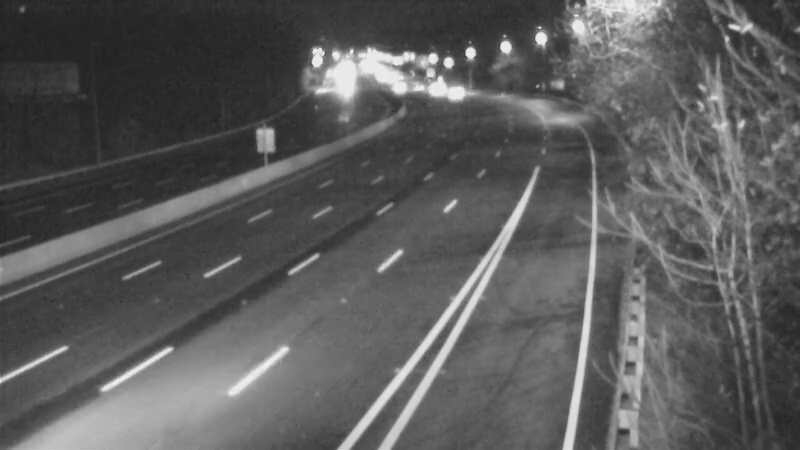vehicle: (372, 61, 422, 111), (409, 67, 459, 117), (425, 70, 475, 120)
